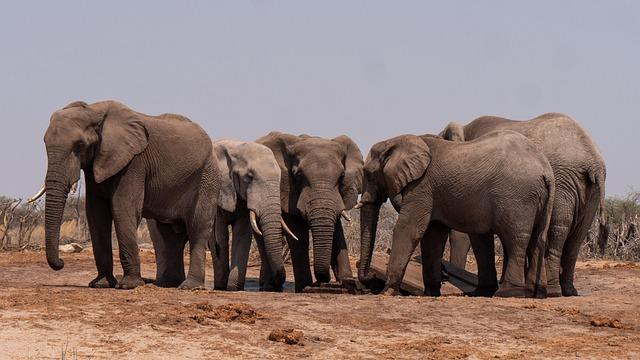Non_Gorille: (36, 25, 612, 328)
